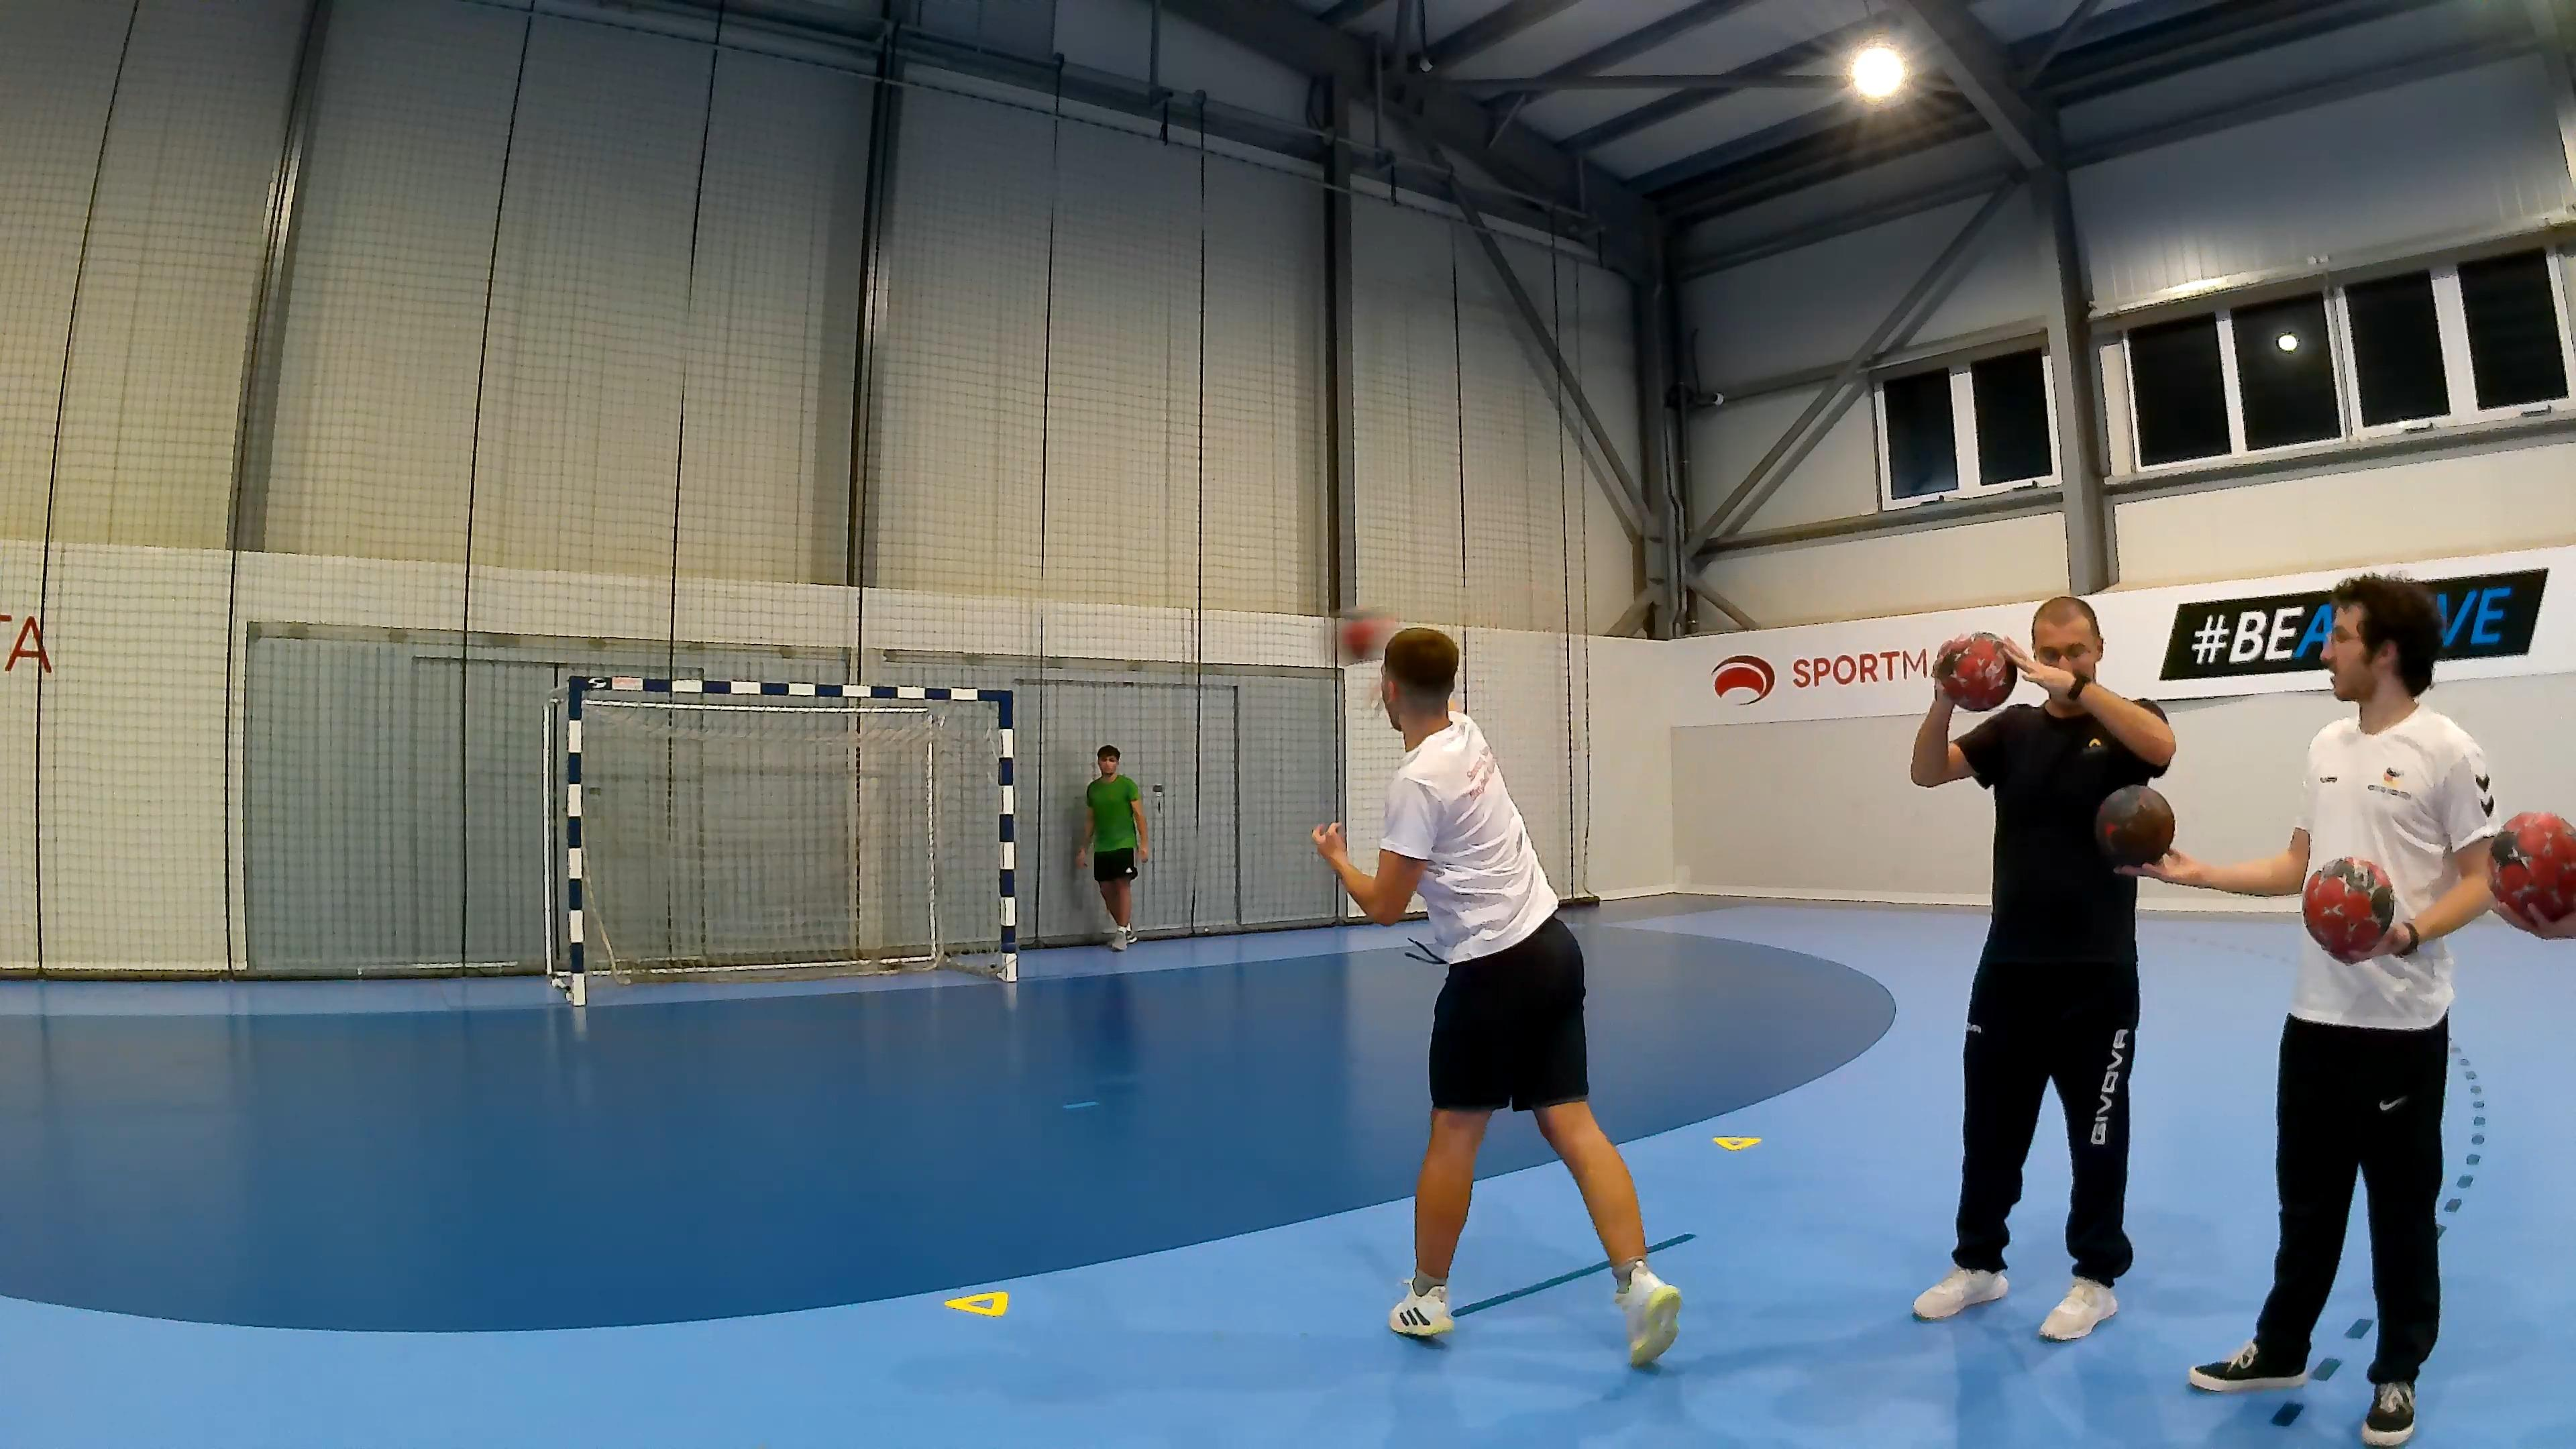handball: (2300, 855, 2396, 962), (2488, 809, 2574, 927), (1930, 630, 2017, 711), (2093, 784, 2174, 869), (1323, 607, 1387, 672)
